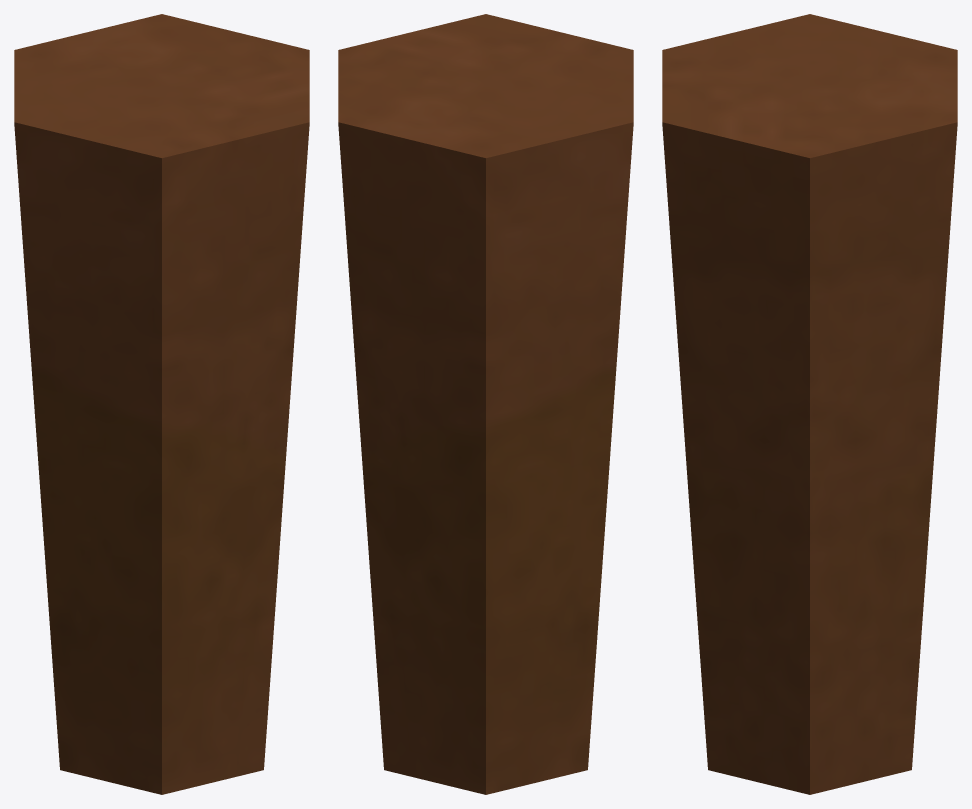
Rendered from jfdx_sk19.FBX.
The picture shows the model from 3 angles, left to right: view 1: azimuth 30°, elevation 25°; view 2: azimuth 150°, elevation 25°; view 3: azimuth 270°, elevation 25°; orthographic projection.
Visible parts, largest first — view 1: jfdx_sk19; view 2: jfdx_sk19; view 3: jfdx_sk19.
Boxes of the visible parts, box(x1,y1,x2,y2) form: jfdx_sk19: box(14, 14, 309, 794); jfdx_sk19: box(338, 14, 633, 794); jfdx_sk19: box(662, 14, 957, 794).
Bounding box in the file's own units: 0.1624 × 0.346 × 0.1407.
